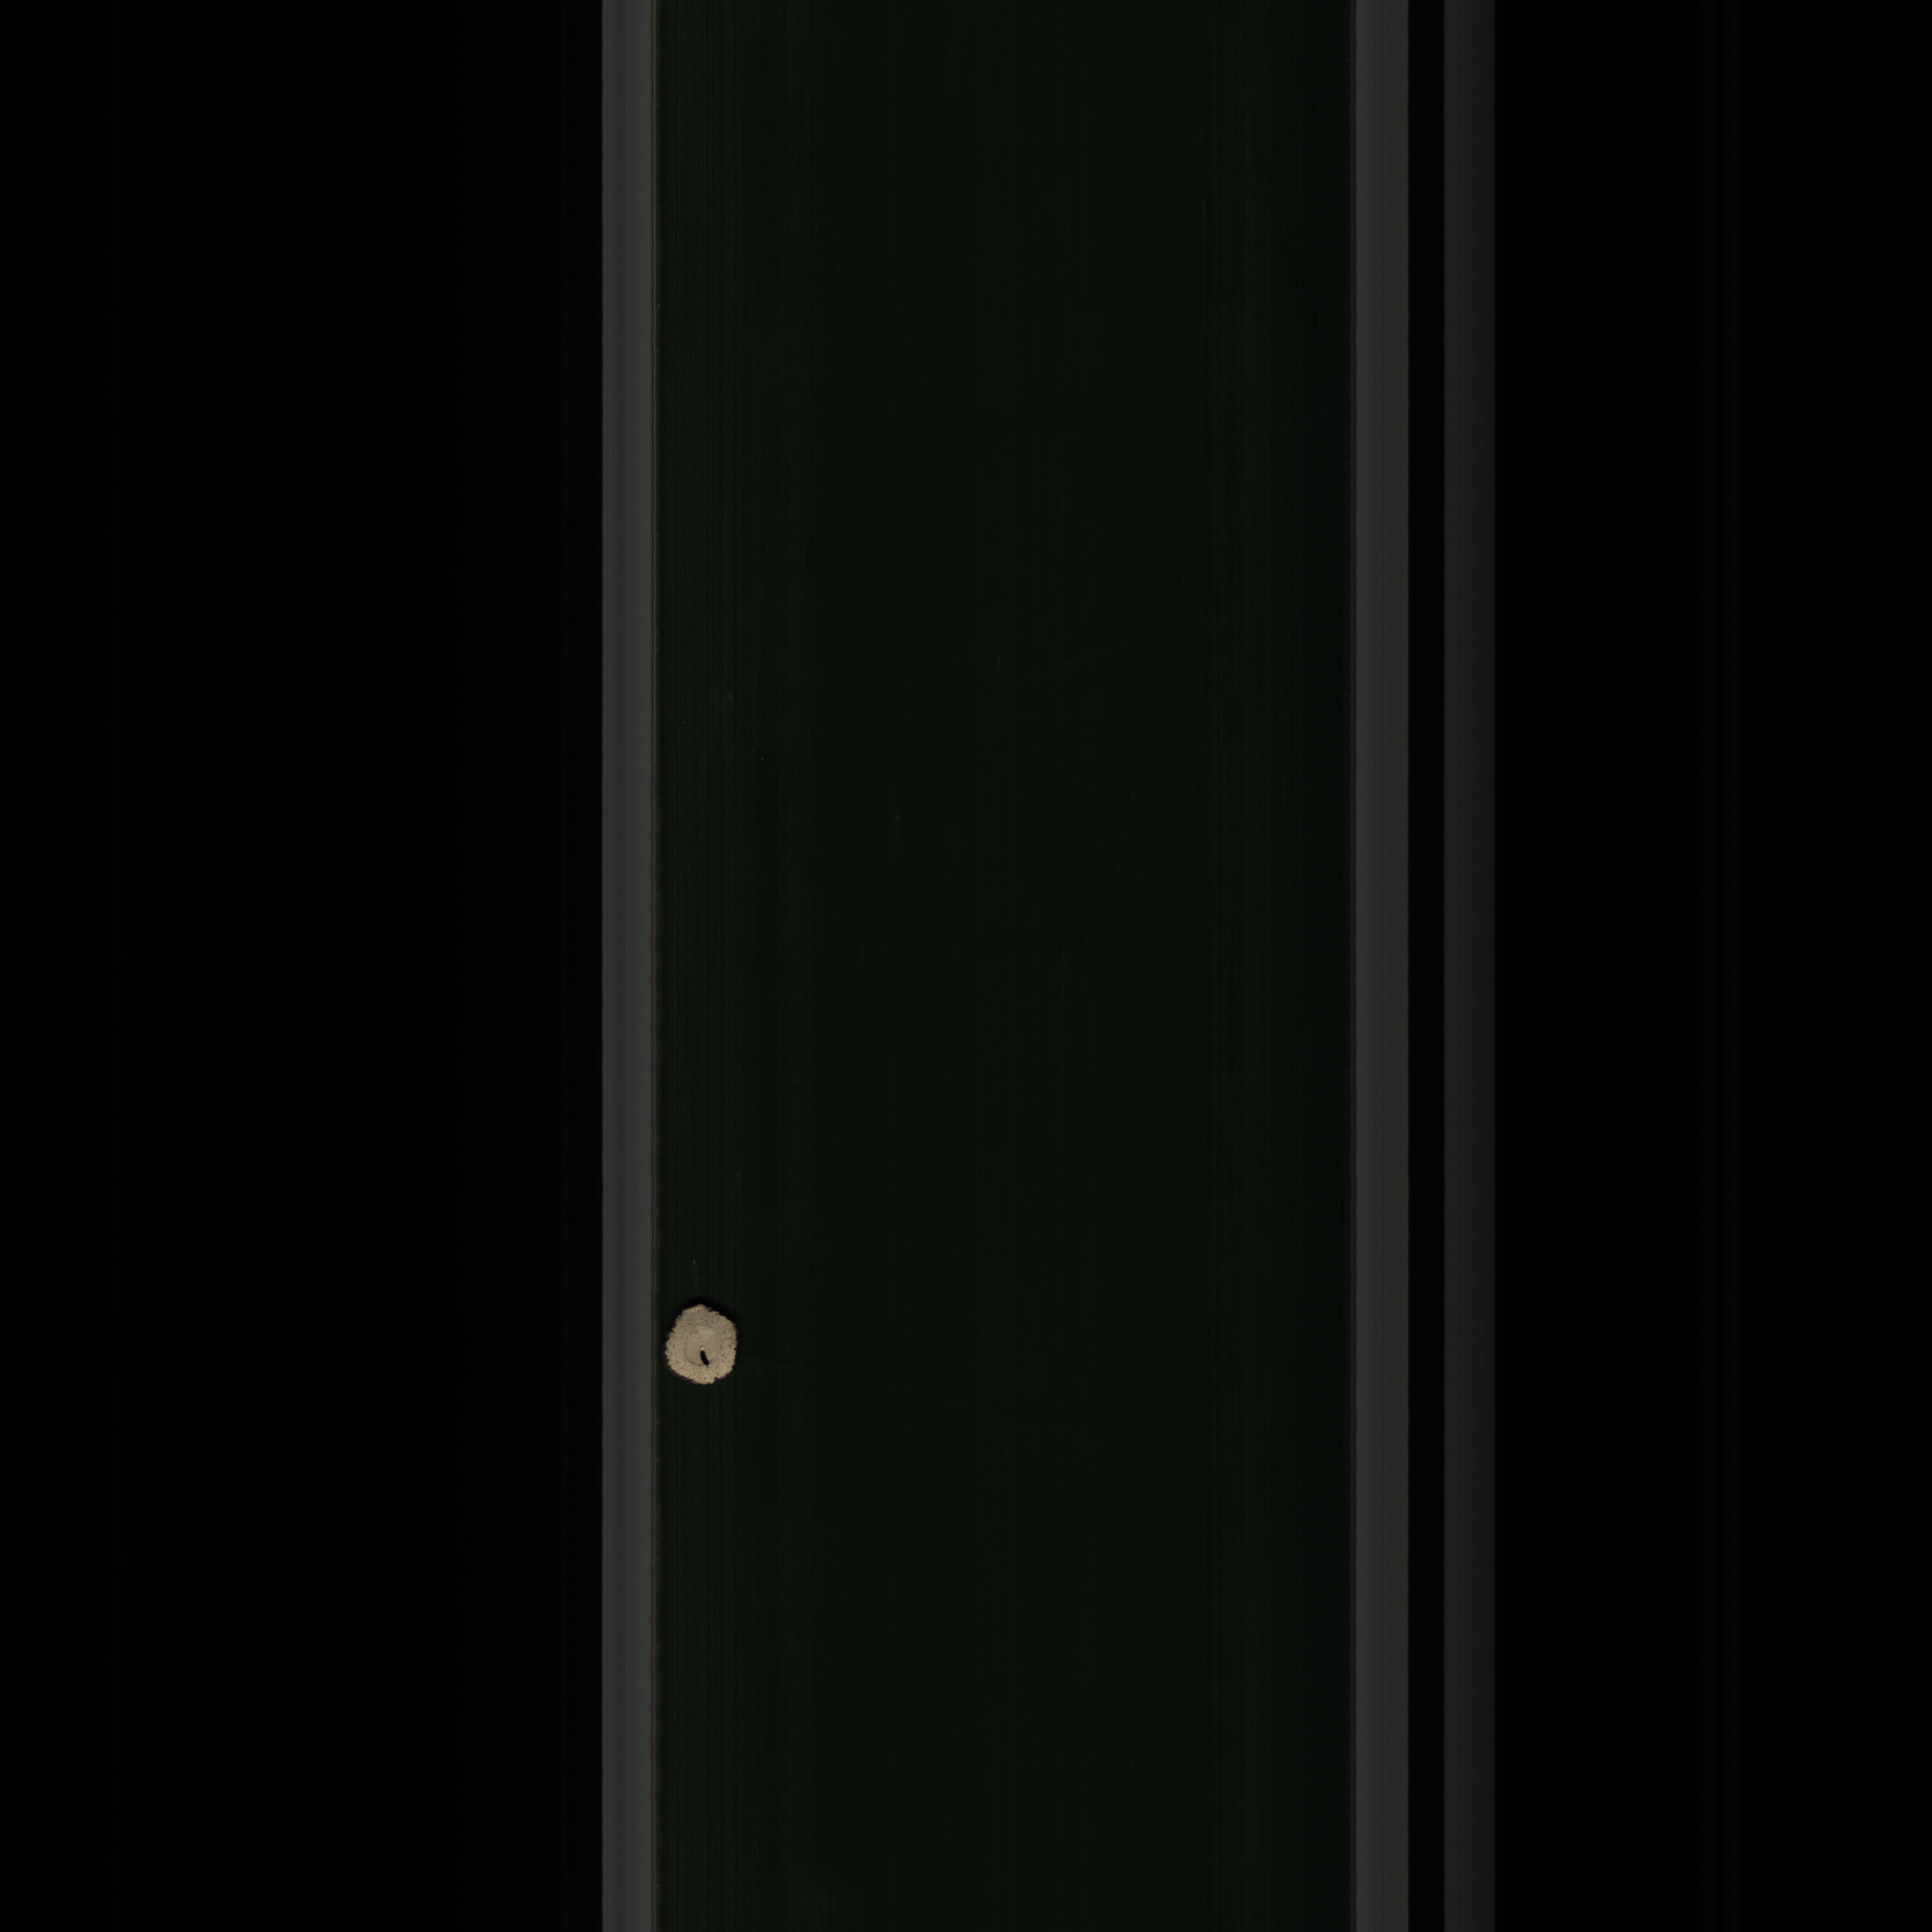hole: (656, 1293, 752, 1391)
